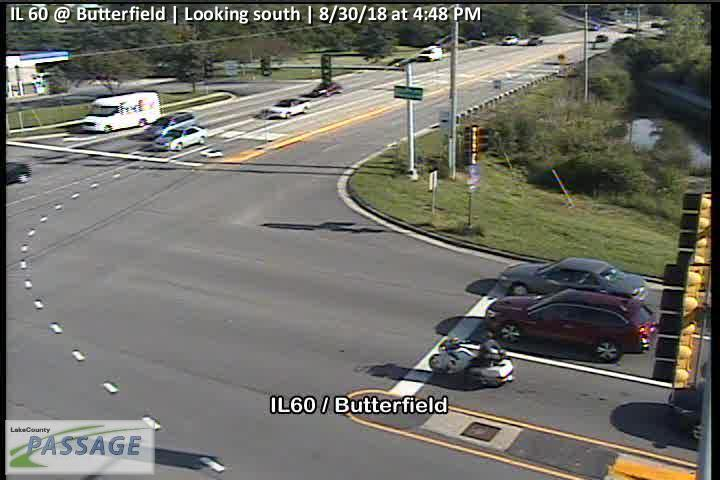Motorbike: (430, 336, 515, 384)
SUV: (481, 287, 657, 365), (81, 92, 161, 134), (142, 113, 194, 142), (417, 45, 442, 61)
Sedan: (496, 256, 648, 310), (150, 124, 208, 149), (260, 98, 312, 119), (312, 80, 347, 98)
